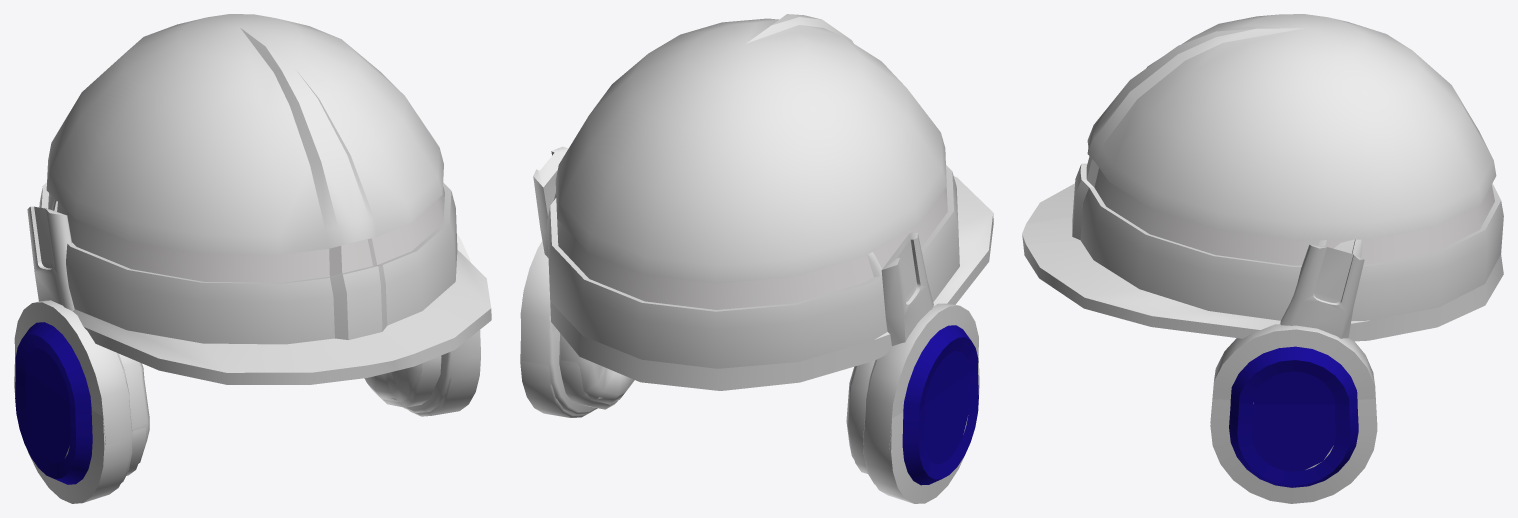
File: Character_Acessories01.fbx
3 views of the same model, side by side, from view 1: azimuth 30°, elevation 25°; view 2: azimuth 150°, elevation 25°; view 3: azimuth 270°, elevation 25° (orthographic). The views are drawn at different scales.
Visible parts, largest first — view 1: Helmet, Headphone-Helmet, Headphone; view 2: Helmet, Headphone-Helmet, Headphone; view 3: Helmet, Headphone-Helmet, Headphone.
Part boxes in pixels (left/top/right/bottom): Helmet: left=39, top=14, right=491, bottom=384; Headphone-Helmet: left=14, top=206, right=479, bottom=482; Headphone: left=14, top=199, right=480, bottom=503; Helmet: left=547, top=14, right=993, bottom=390; Headphone-Helmet: left=520, top=146, right=978, bottom=484; Headphone: left=520, top=193, right=979, bottom=503; Helmet: left=1022, top=14, right=1503, bottom=341; Headphone-Helmet: left=1210, top=244, right=1377, bottom=425; Headphone: left=1210, top=239, right=1377, bottom=503.
Size of the model in its own units: 56.14 by 55.08 by 61.72.
